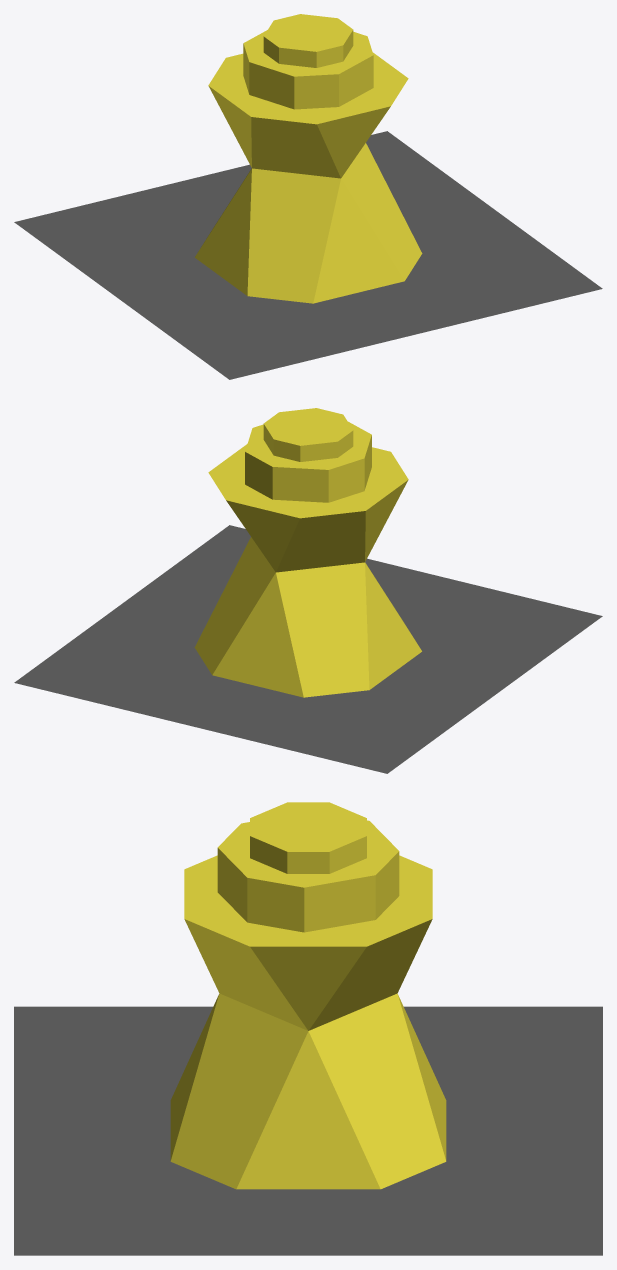
The model's file is 1x1_Statue.col.glb.
3 views of the same model, one above another, from view 1: azimuth 30°, elevation 25°; view 2: azimuth 150°, elevation 25°; view 3: azimuth 270°, elevation 25° (orthographic). The views are drawn at different scales.
Visible parts, largest first — view 1: 1x1_Statue.col; view 2: 1x1_Statue.col; view 3: 1x1_Statue.col.
Boxes of the visible parts, left/top/right/bottom form: 1x1_Statue.col: left=14, top=14, right=602, bottom=379; 1x1_Statue.col: left=14, top=408, right=602, bottom=773; 1x1_Statue.col: left=14, top=802, right=602, bottom=1255.
Bounding box in the file's own units: 20 × 11.39 × 20.
